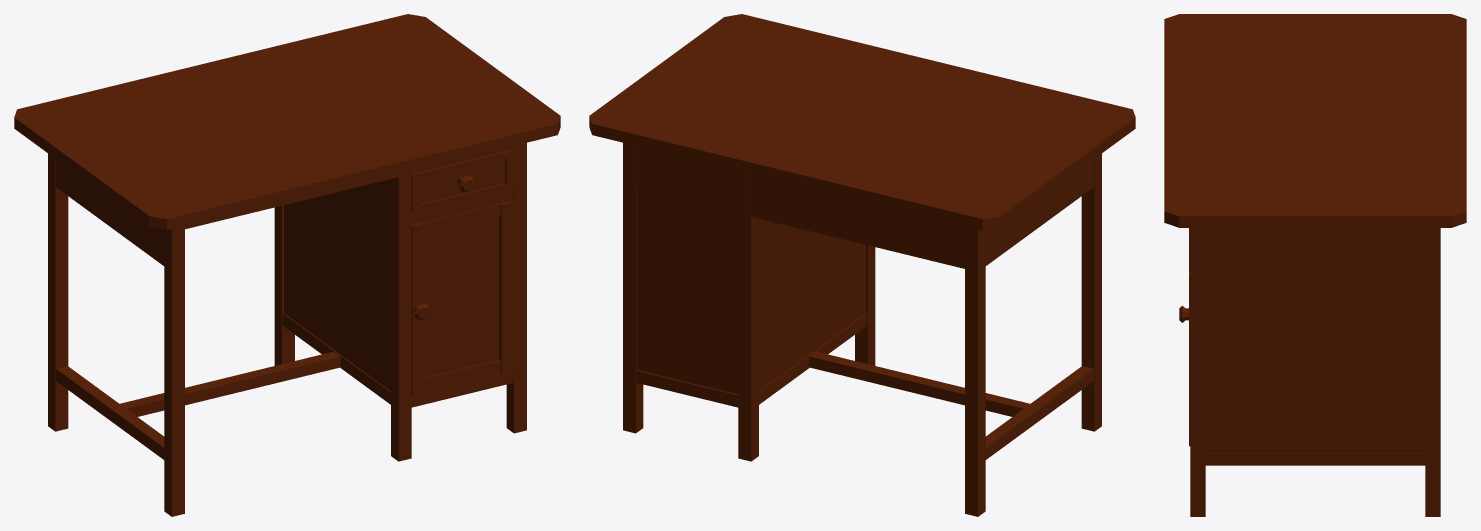
The model's file is 1stol.glb.
3 views of the same model, side by side, from view 1: azimuth 30°, elevation 25°; view 2: azimuth 150°, elevation 25°; view 3: azimuth 270°, elevation 25° (orthographic).
Parts seen in each view (by area): view 1: Плоскость.014; view 2: Плоскость.014; view 3: Плоскость.014.
Boxes of the visible parts, bbox=[...] form: Плоскость.014: bbox=[14, 14, 560, 516]; Плоскость.014: bbox=[589, 14, 1135, 516]; Плоскость.014: bbox=[1164, 14, 1466, 516].
Size of the model in its own units: 3.8 by 2.75 by 2.4.
